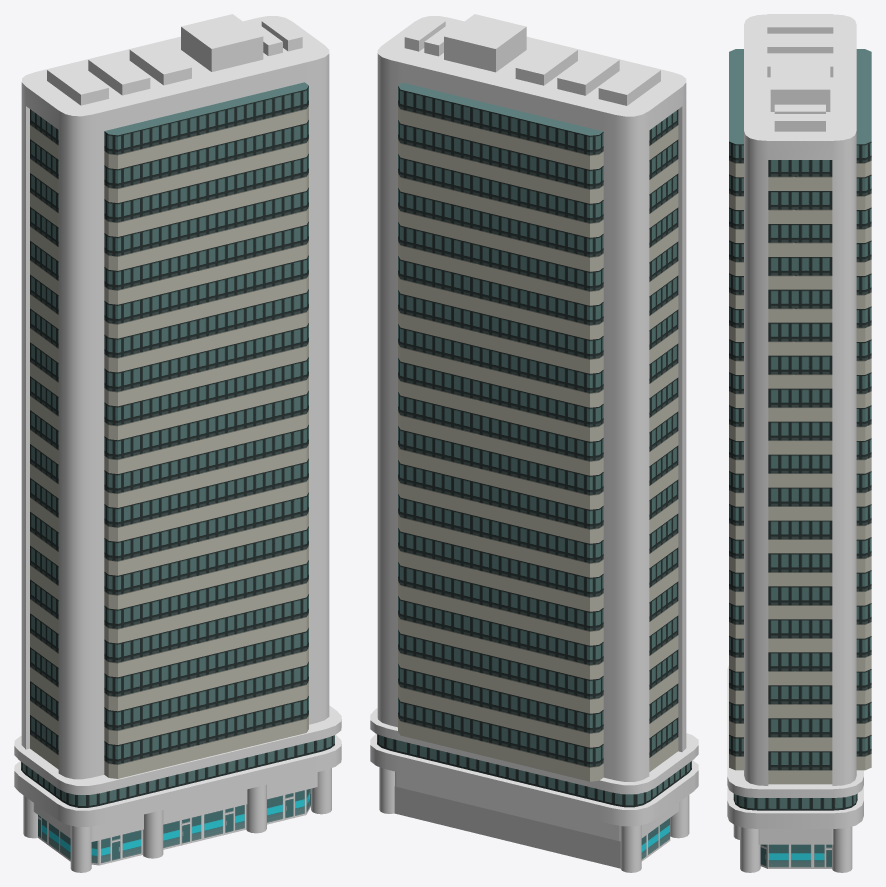
File: Town_Bld-Lrg_BuildingD.FBX
3 views of the same model, side by side, from view 1: azimuth 30°, elevation 25°; view 2: azimuth 150°, elevation 25°; view 3: azimuth 270°, elevation 25° (orthographic). The views are drawn at different scales.
Visible parts, largest first — view 1: Town_Bld-Lrg_BuildingD; view 2: Town_Bld-Lrg_BuildingD; view 3: Town_Bld-Lrg_BuildingD.
Part boxes in pixels (x1,y1,x2,y2): Town_Bld-Lrg_BuildingD: (14,14,341,872); Town_Bld-Lrg_BuildingD: (370,14,698,872); Town_Bld-Lrg_BuildingD: (727,14,871,872).
Bounding box in the file's own units: 1675 × 4450 × 770.
